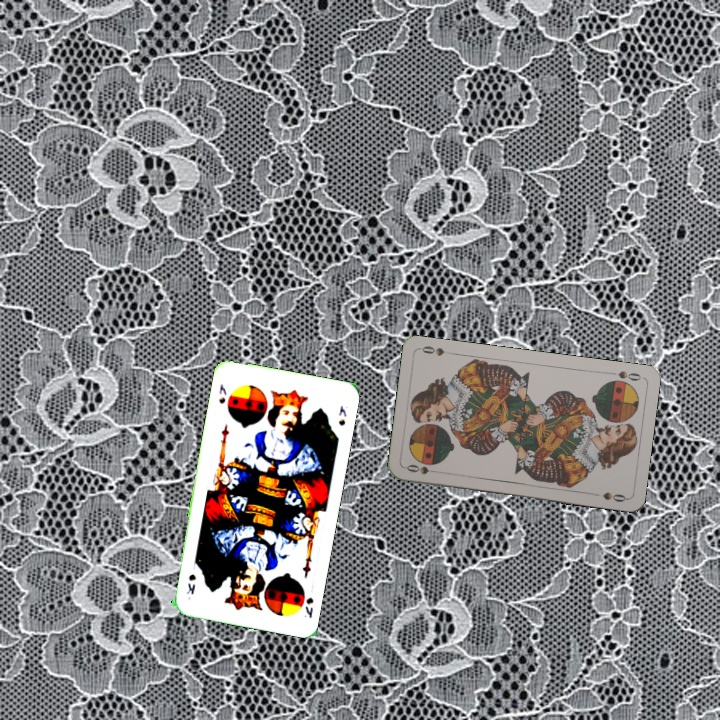SK: (300, 593, 316, 621), (215, 380, 229, 406)
SO: (402, 460, 442, 477), (604, 367, 644, 383)
